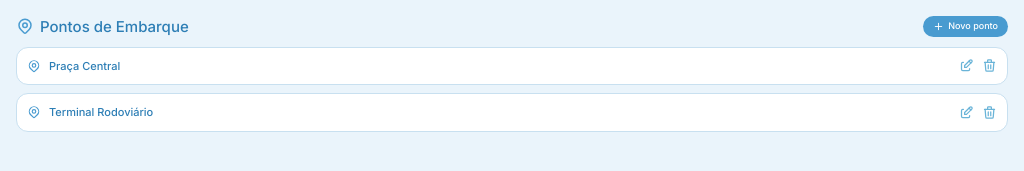
PontosPage — editar › exibe input inline ao clicar em editar
Click the button with test id "btn-editar-p1" at (966, 66), box [959,58,974,73]
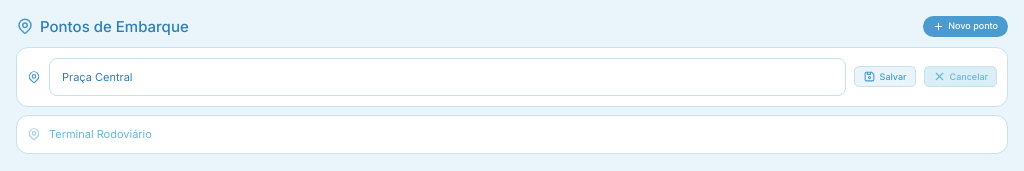
Check: the field with test id "input-editar-p1" is shown, box [49,58,846,96]
